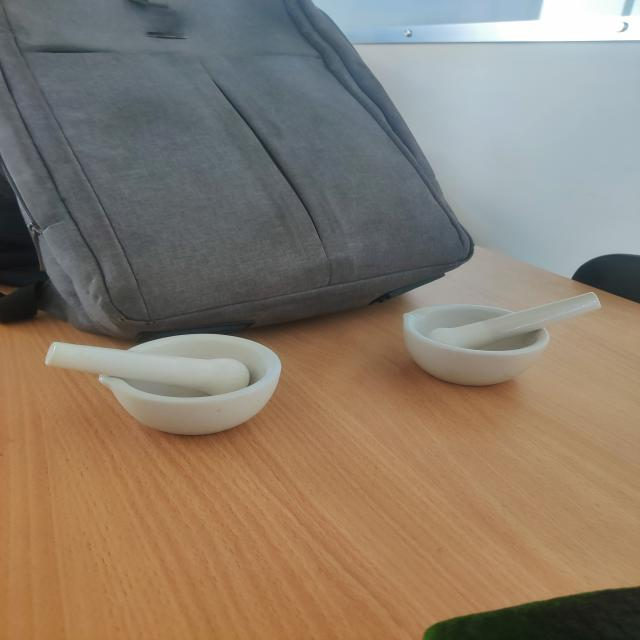Porcelain_Mortar Pestle: (367, 256, 620, 413), (20, 311, 299, 451)
